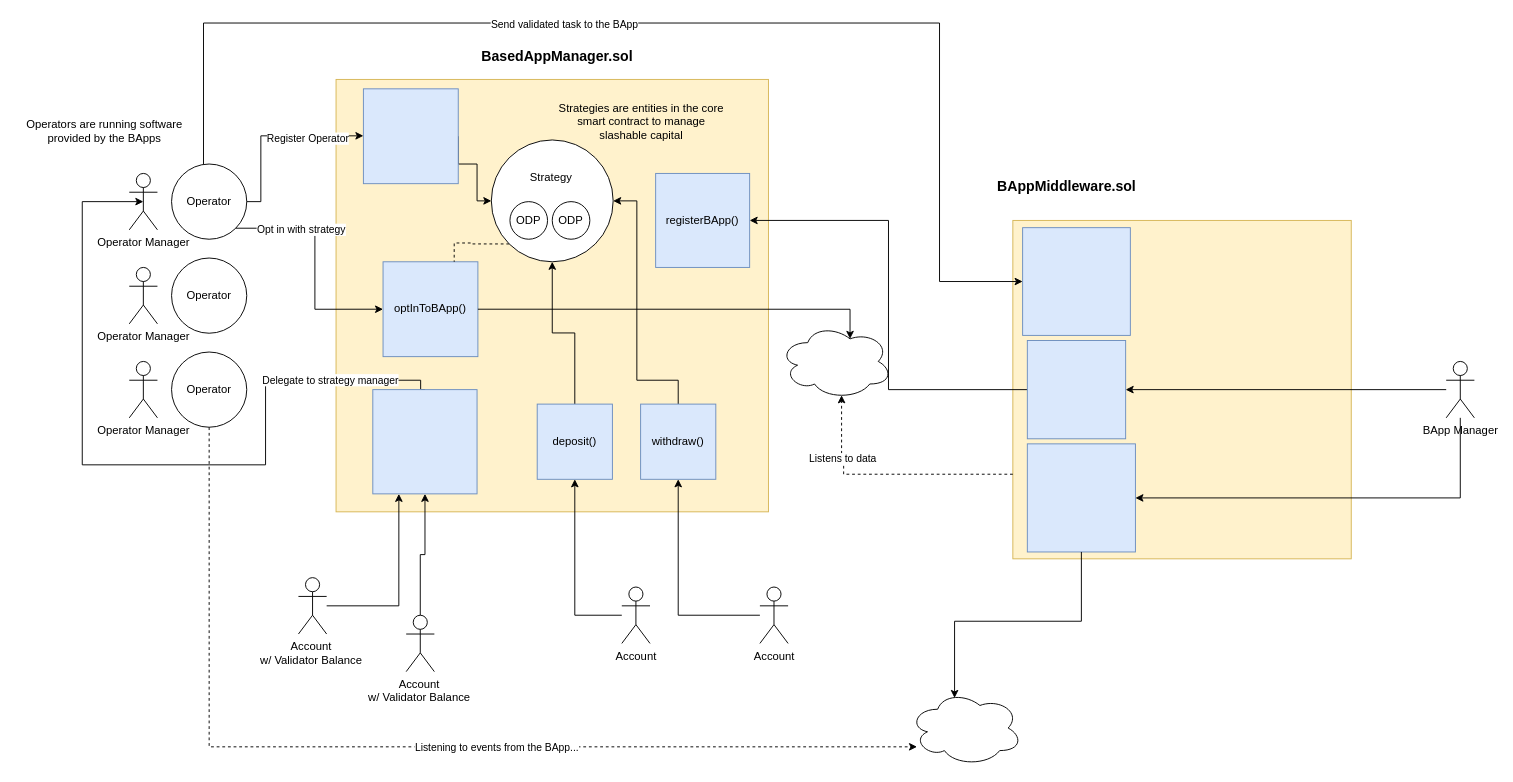
The diagram is 1513 pixels wide and 782 high, and some of its shapes have lost their labels. Here are the shapes that lost their labels. From the top down, the centre of each, then its label:
At pixel 410 136: "createStrategy( )".
At pixel 1076 281: "validateTask()".
At pixel 835 361: "event data".
At pixel 1076 389: "register()".
At pixel 424 441: "delegateBalance()".
At pixel 1080 497: "requestTask()".
At pixel 965 727: "event emit".
